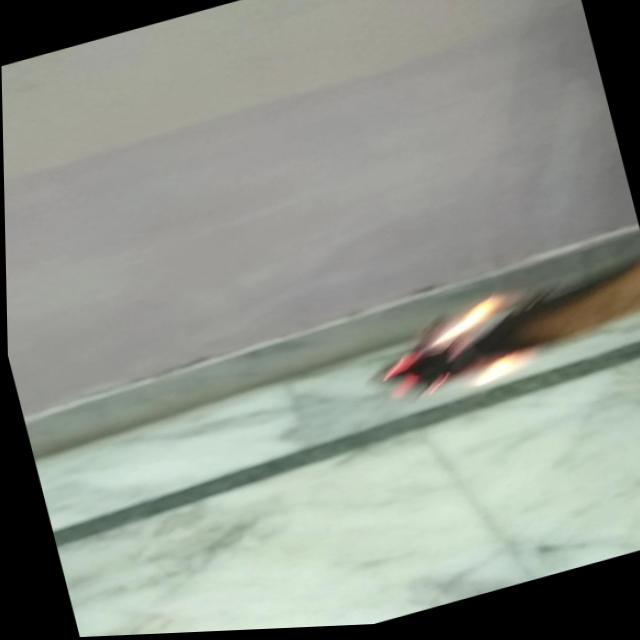fire: (362, 287, 548, 419)
